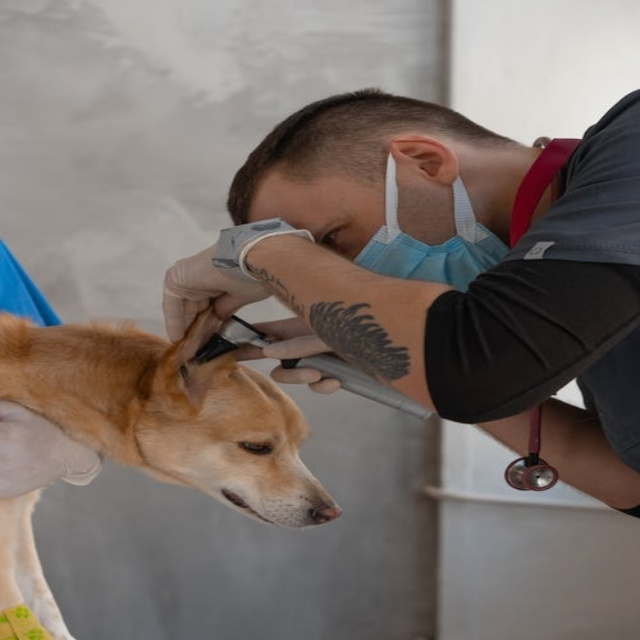Guantes: (164, 215, 314, 346), (1, 398, 105, 497)
Mascara: (353, 148, 507, 293)
Sin_gafas: (315, 183, 353, 255)
